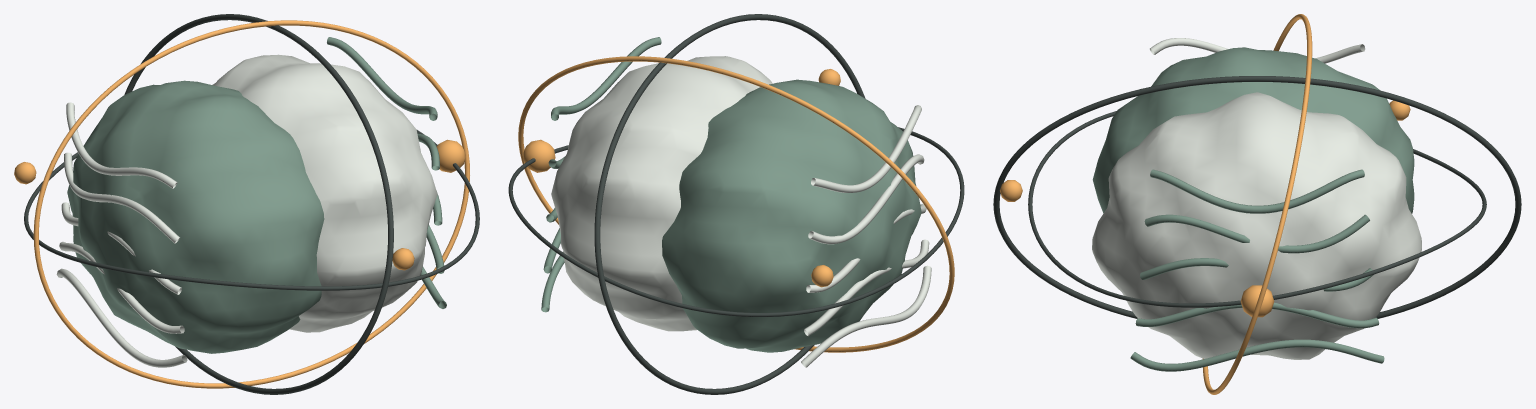
Rendered from socra-cognitive-core.glb.
The picture shows the model from 3 angles, left to right: view 1: azimuth 30°, elevation 25°; view 2: azimuth 150°, elevation 25°; view 3: azimuth 270°, elevation 25°; orthographic projection.
Parts seen in each view (by area): view 1: BrainLeft, BrainRight, ThoughtRing02, ThoughtRing03, ThoughtRing01, RidgeL01, RidgeL04, RidgeL05, RidgeR05, RidgeL02, SignalNode01, RidgeL03 (+1 smaller); view 2: BrainLeft, BrainRight, ThoughtRing03, ThoughtRing02, ThoughtRing01, RidgeL01, RidgeL05, RidgeL04, RidgeR05, RidgeL02, SignalNode01, RidgeL03 (+2 smaller); view 3: BrainRight, BrainLeft, ThoughtRing03, ThoughtRing01, ThoughtRing02, RidgeR01, RidgeR05, RidgeR04, RidgeR02, RidgeR03, RidgeL05, SignalNode01.
Boxes of the visible parts, box(x1,y1,x2,y2) form: BrainLeft: box(67, 80, 324, 353); BrainRight: box(212, 54, 437, 332); ThoughtRing02: box(33, 20, 469, 388); ThoughtRing03: box(124, 14, 393, 394); ThoughtRing01: box(24, 130, 479, 290); RidgeL01: box(56, 268, 187, 367); RidgeL04: box(64, 152, 179, 243); RidgeL05: box(66, 102, 177, 188); RidgeR05: box(327, 37, 437, 120); RidgeL02: box(59, 241, 184, 333); SignalNode01: box(436, 139, 465, 172); RidgeL03: box(61, 202, 181, 294); BrainLeft: box(662, 79, 921, 352); BrainRight: box(551, 56, 772, 331); ThoughtRing03: box(594, 14, 865, 394); ThoughtRing02: box(518, 56, 954, 352); ThoughtRing01: box(508, 127, 964, 316); RidgeL01: box(801, 265, 931, 367); RidgeL05: box(811, 105, 921, 192); RidgeL04: box(808, 154, 924, 244); RidgeR05: box(551, 37, 661, 120); RidgeL02: box(804, 239, 929, 336); SignalNode01: box(522, 139, 555, 172); RidgeL03: box(806, 203, 926, 292); BrainRight: box(1092, 92, 1421, 359); BrainLeft: box(1092, 47, 1414, 213); ThoughtRing03: box(993, 76, 1521, 318); ThoughtRing01: box(1028, 111, 1486, 307); ThoughtRing02: box(1202, 14, 1312, 394); RidgeR01: box(1130, 339, 1384, 371); RidgeR05: box(1150, 169, 1364, 213); RidgeR04: box(1144, 214, 1369, 253); RidgeR02: box(1135, 302, 1379, 328); RidgeR03: box(1140, 258, 1373, 291); RidgeL05: box(1150, 38, 1365, 63); SignalNode01: box(1240, 285, 1274, 317).
Size of the model in its own units: 3.27 by 2.27 by 3.43.
